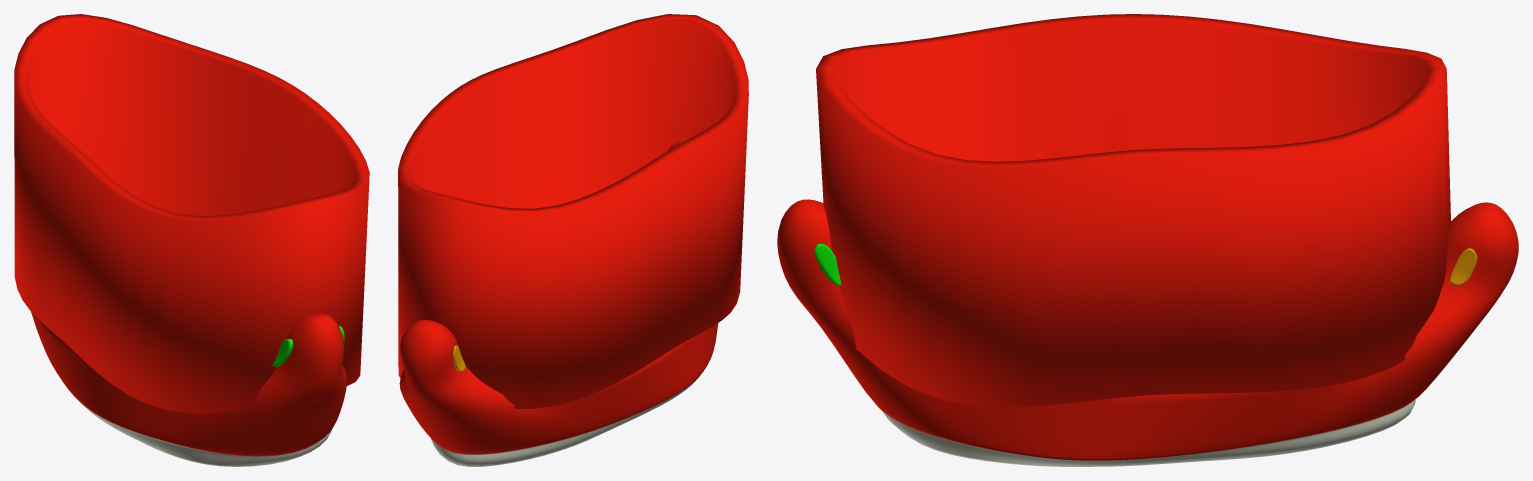
Rendered from boat.fbx.
3 renders of one model, left to right at view 1: azimuth 30°, elevation 25°; view 2: azimuth 150°, elevation 25°; view 3: azimuth 270°, elevation 25°, orthographic. The views are drawn at different scales.
Parts seen in each view (by area): view 1: boat_cage, boat.001; view 2: boat_cage, boat.001; view 3: boat_cage, boat.001.
Part boxes in pixels (left/top/right/bottom): boat_cage: left=14, top=14, right=369, bottom=413; boat.001: left=31, top=312, right=346, bottom=466; boat_cage: left=398, top=14, right=748, bottom=408; boat.001: left=399, top=139, right=718, bottom=466; boat_cage: left=816, top=14, right=1450, bottom=407; boat.001: left=777, top=199, right=1518, bottom=466.
Bounding box in the file's own units: 79.52 × 88.39 × 172.
